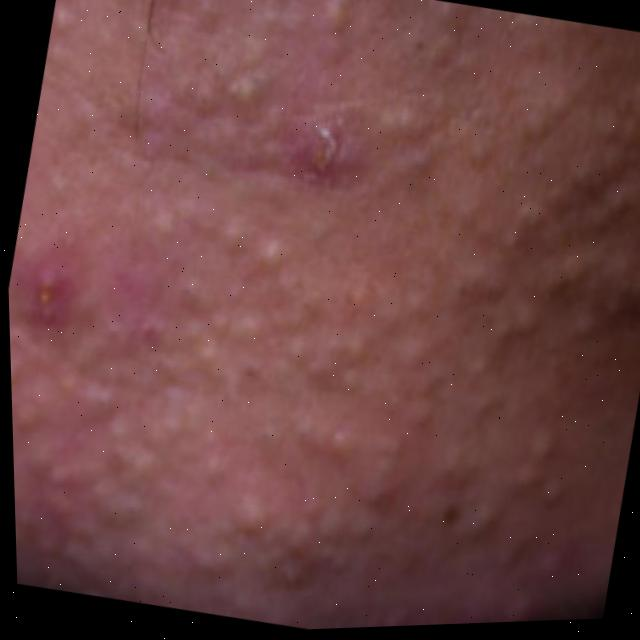Acne: (1, 13, 640, 640)
